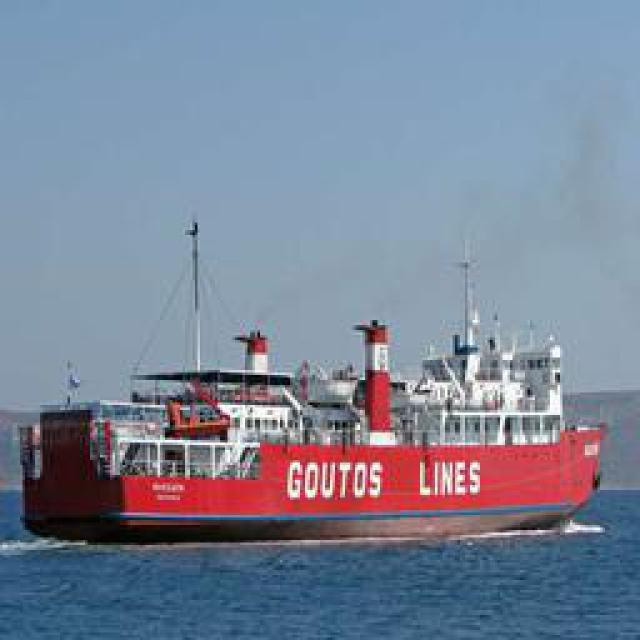Ship: (19, 210, 634, 540)
